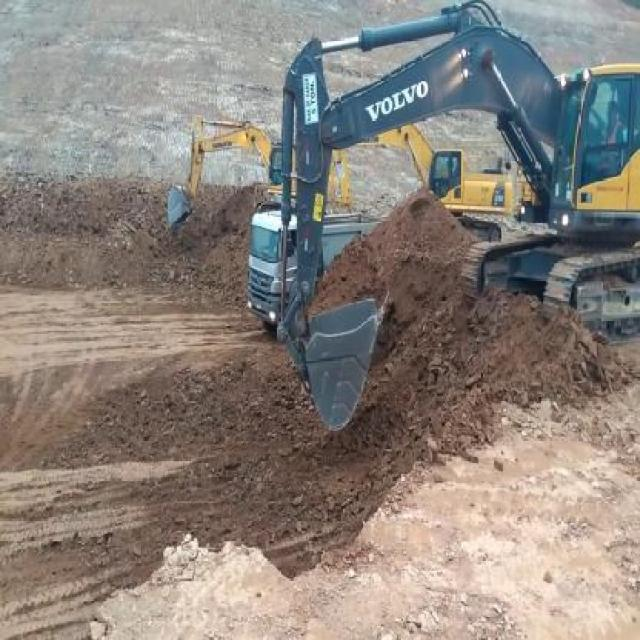dump_truck: (246, 207, 386, 325)
excavator: (275, 0, 639, 435), (327, 123, 515, 249), (168, 113, 352, 224)
